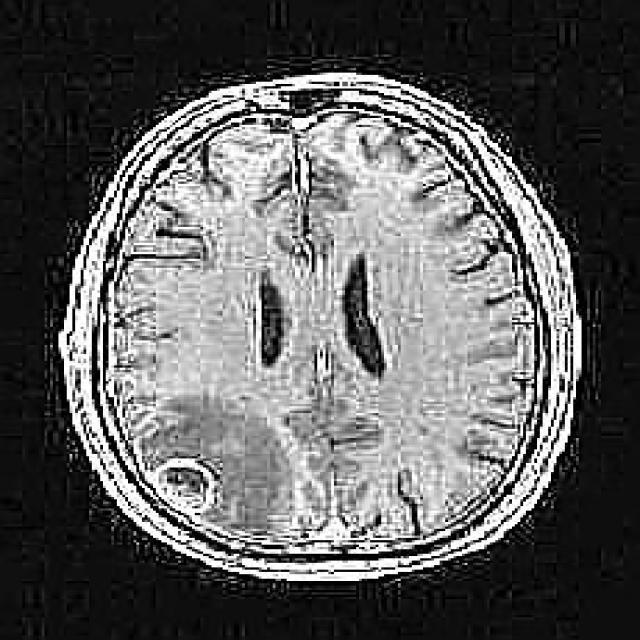notumor: (56, 75, 584, 572)
